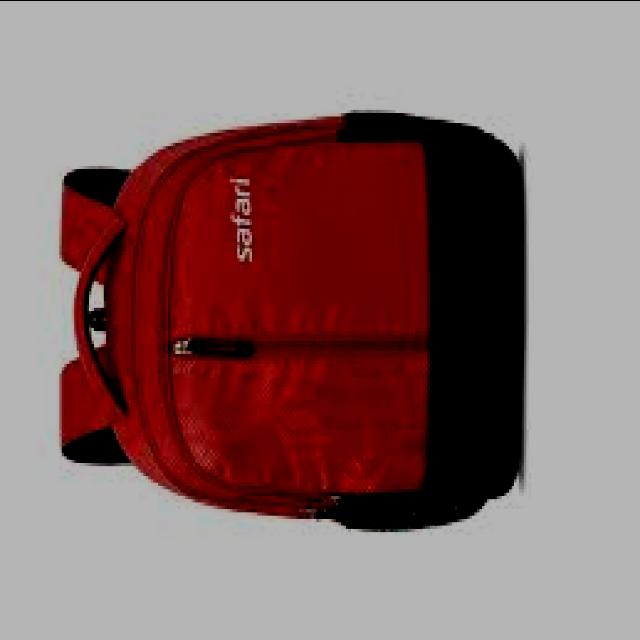backpack: (58, 114, 522, 536)
